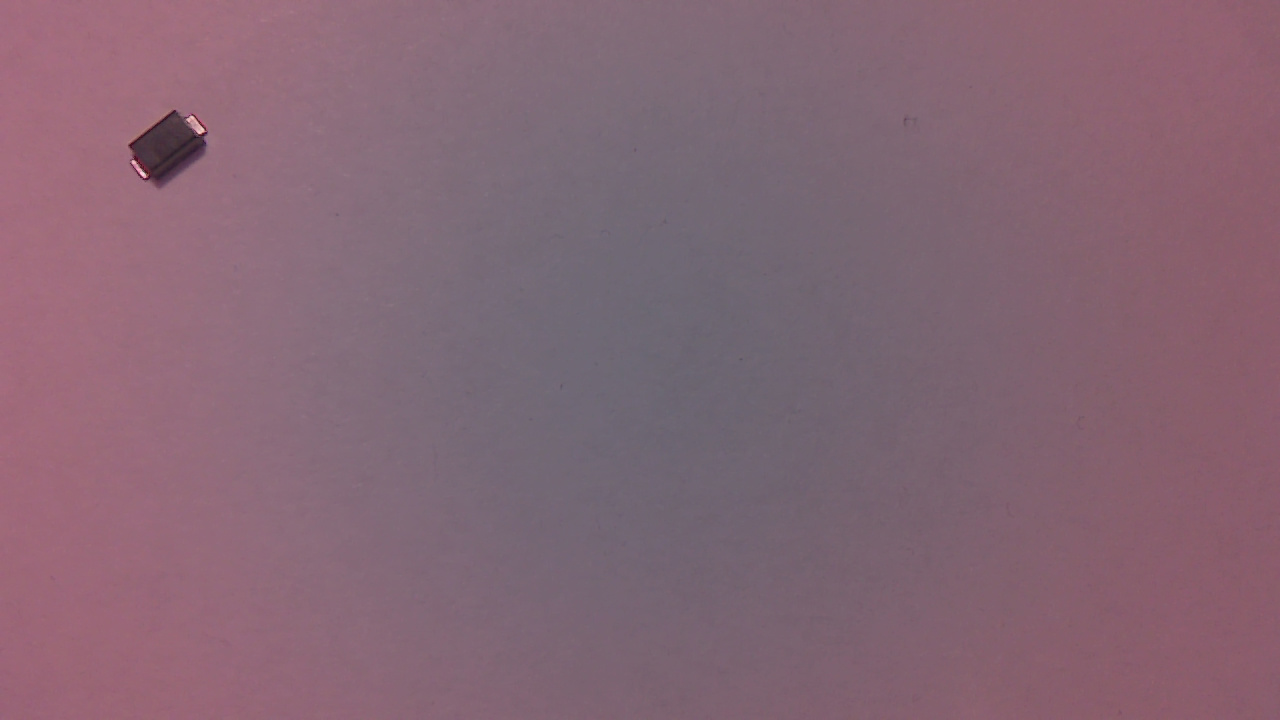Diode: (133, 115, 214, 188)
